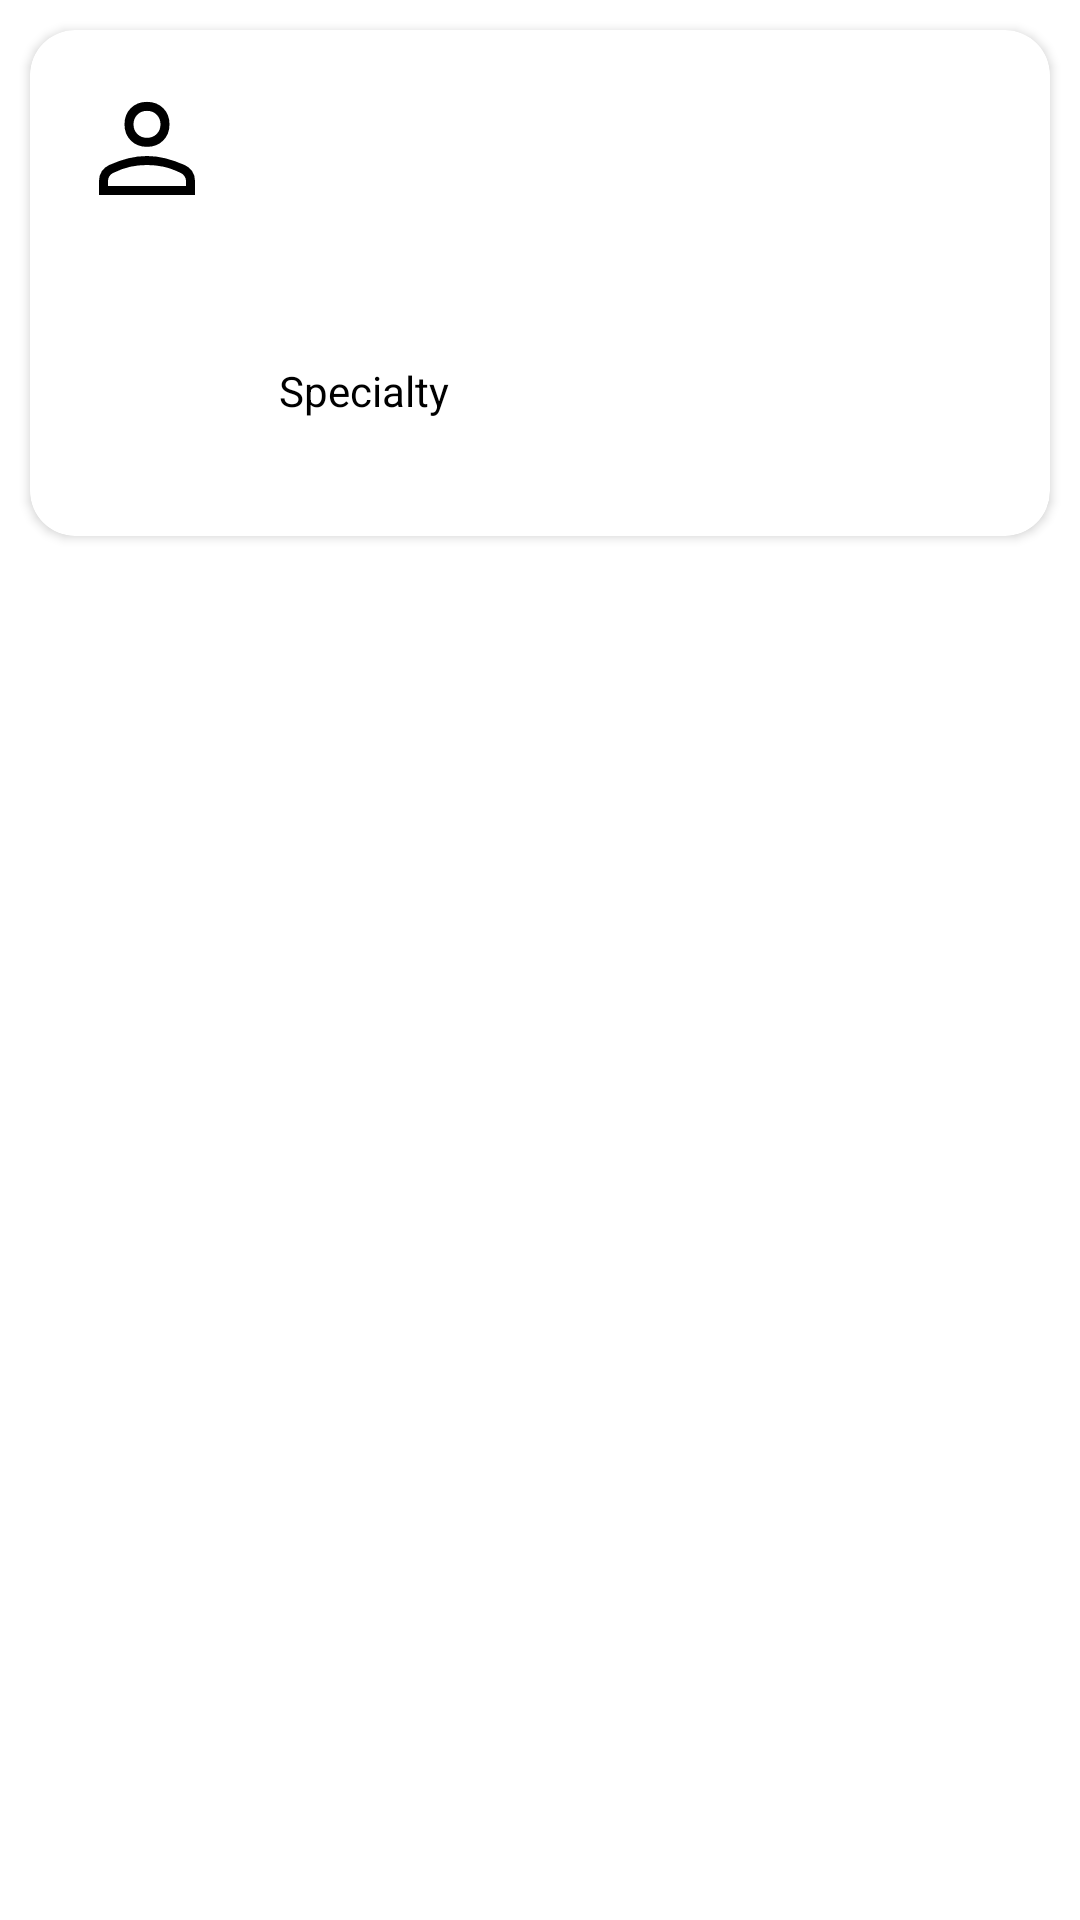

Where icons sit on this 1080*1920 app screen, as (x1, y1, x2, y2):
person: (99, 102, 195, 195)
